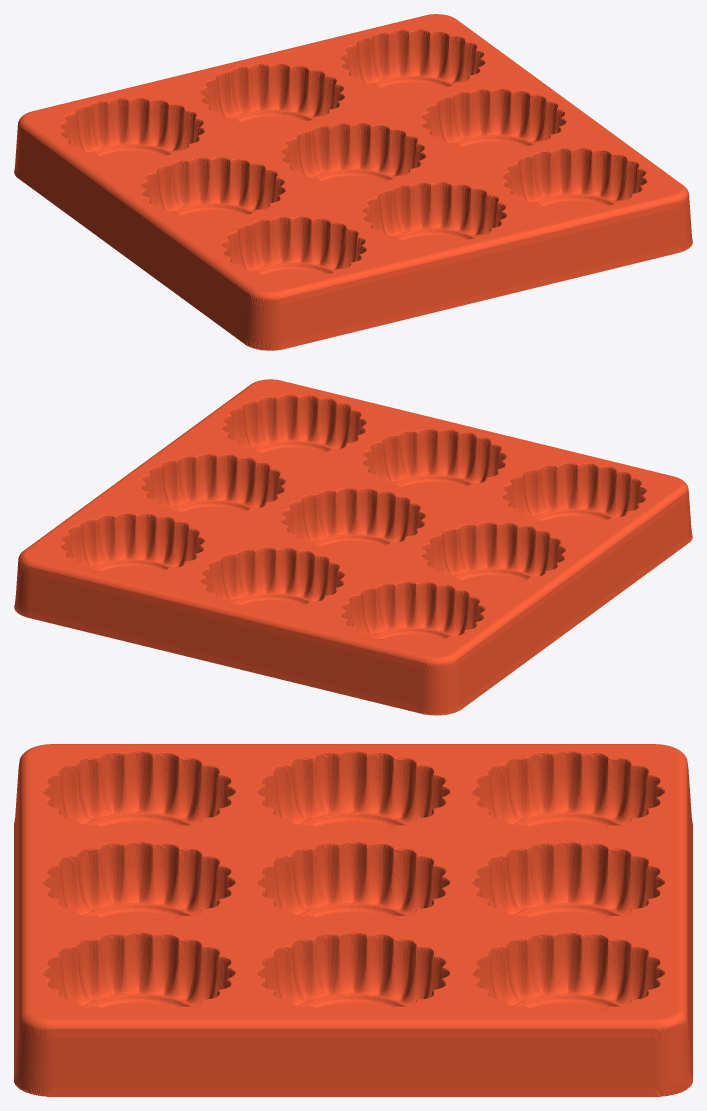
The model's file is mold.glb.
3 views of the same model, one above another, from view 1: azimuth 30°, elevation 25°; view 2: azimuth 150°, elevation 25°; view 3: azimuth 270°, elevation 25° (orthographic). The views are drawn at different scales.
Visible parts, largest first — view 1: geometry_0; view 2: geometry_0; view 3: geometry_0.
Part boxes in pixels (x1,y1,x2,y2): geometry_0: [14, 14, 692, 350]; geometry_0: [14, 379, 692, 715]; geometry_0: [14, 744, 692, 1096].
Size of the model in its own units: 0.1595 by 0.0185 by 0.1595.
